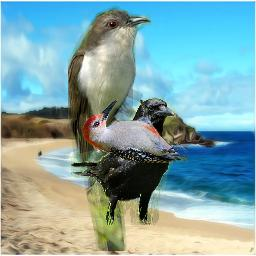Crow: (71, 97, 176, 225)
Cuckoo: (68, 2, 151, 251)
Woodpecker: (83, 100, 188, 163)
